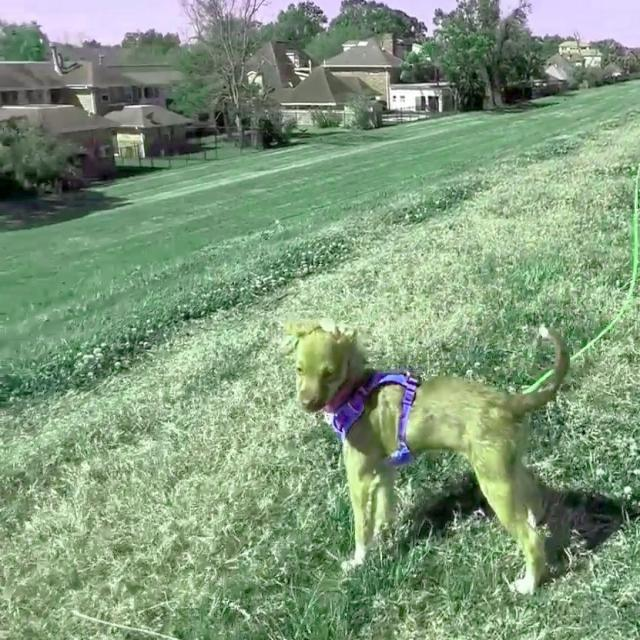Dog: (278, 317, 571, 596)
